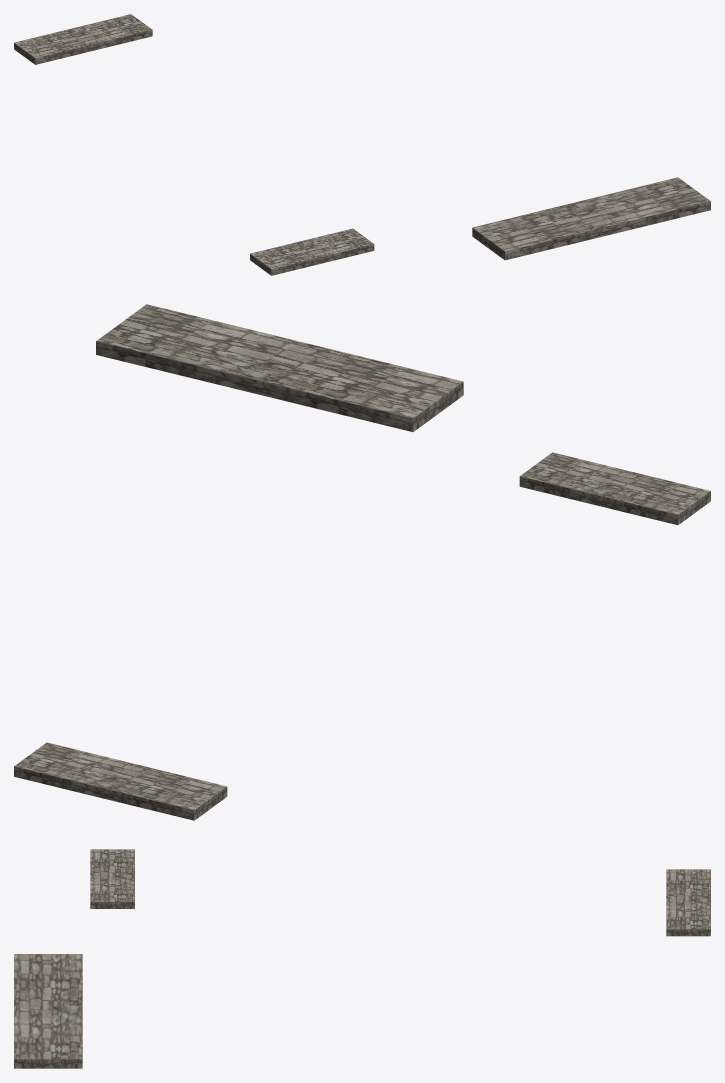
Rendered from BW_Merchant01_ApproachStone.fbx.
The picture shows the model from 3 angles, top to bottom: view 1: azimuth 30°, elevation 25°; view 2: azimuth 150°, elevation 25°; view 3: azimuth 270°, elevation 25°; orthographic projection. The views are drawn at different scales.
Parts seen in each view (by area): view 1: BW_Merchant01_ApproachStone; view 2: BW_Merchant01_ApproachStone; view 3: BW_Merchant01_ApproachStone.
Part boxes in pixels (x1,y1,x2,y2): BW_Merchant01_ApproachStone: (14,14,710,275); BW_Merchant01_ApproachStone: (14,304,710,820); BW_Merchant01_ApproachStone: (14,849,710,1068).
Bounding box in the file's own units: 5.67 × 0.17 × 8.12.
